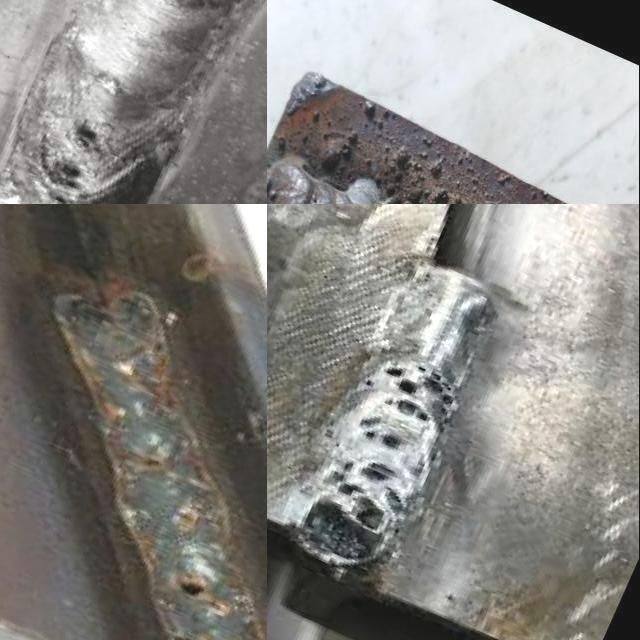defect: (294, 451, 417, 571), (375, 354, 462, 432), (32, 151, 94, 204), (61, 116, 115, 161), (355, 411, 409, 454), (175, 578, 208, 602)
